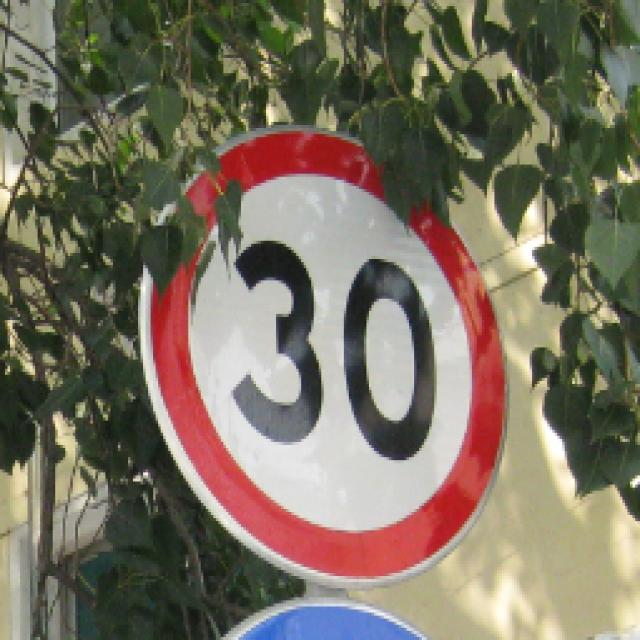Speed: (134, 104, 531, 601)
